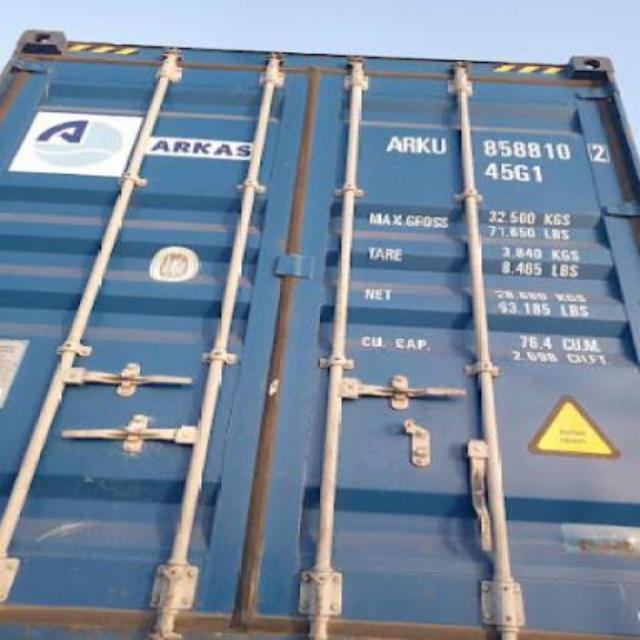0: (556, 142, 572, 160)
1: (544, 143, 558, 161)
2: (592, 142, 608, 164)
5: (494, 139, 514, 157)
8: (482, 138, 496, 158), (528, 141, 542, 159), (516, 139, 526, 157)
A: (388, 134, 402, 154)
K: (416, 137, 429, 153)
R: (402, 135, 416, 155)
U: (430, 136, 448, 156)
